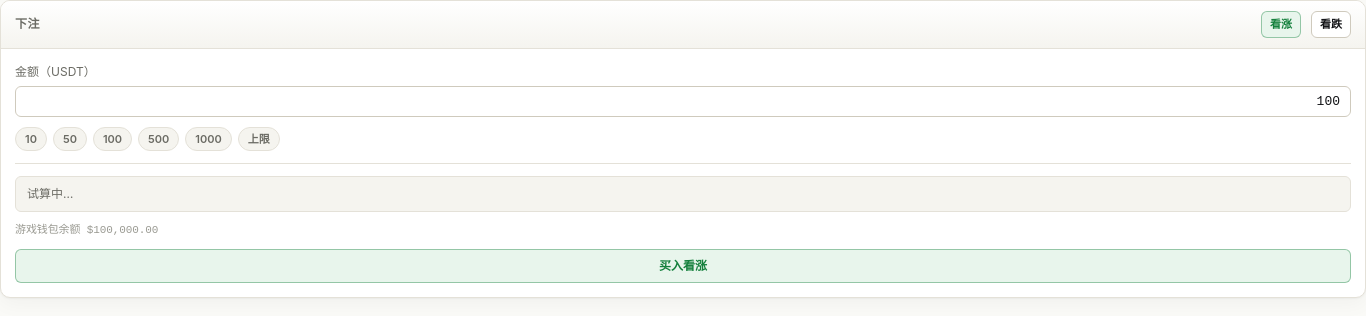
Test: BetTicket：试算以后端为准 › 非数字输入被过滤
Type "1a2b3" into the field labelled "金额（USDT）".
click(683, 101); type("1a2b3")  # box [15,86,1351,116]
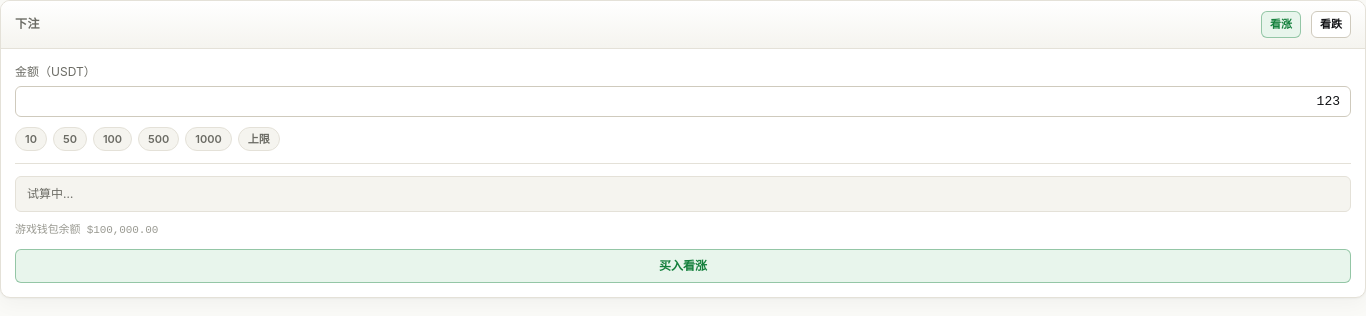
Expected: the field labelled "金额（USDT）" holds "123", [15,86,1351,116]
